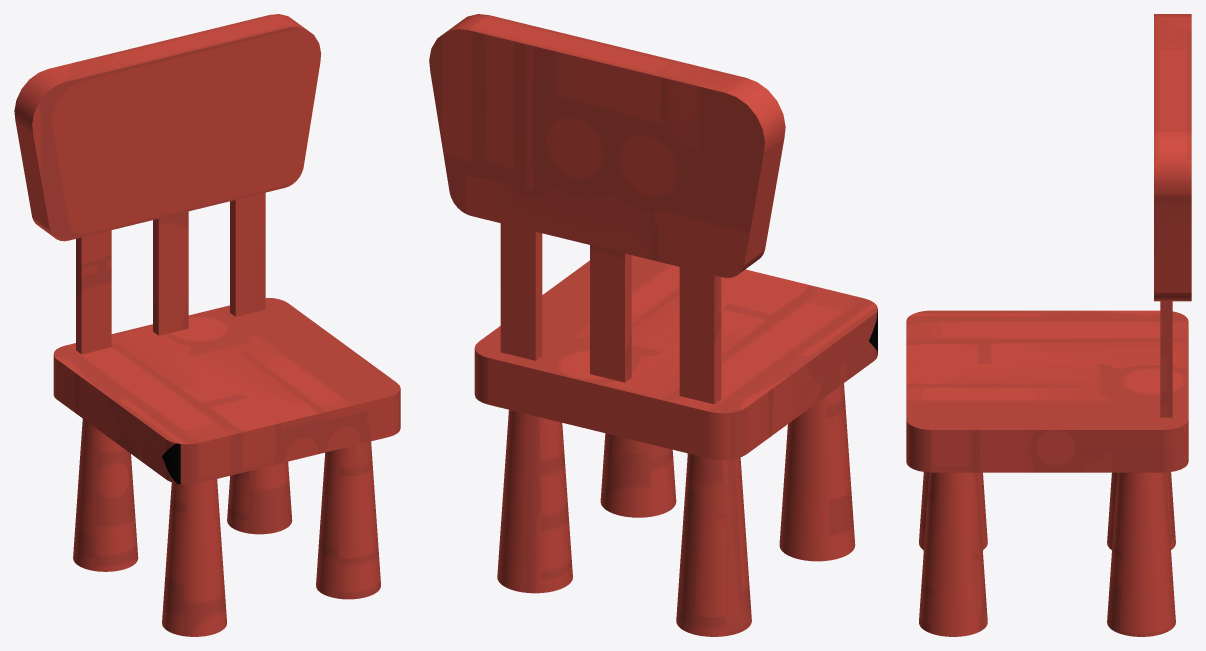
The model's file is plastic.obj.
3 renders of one model, left to right at view 1: azimuth 30°, elevation 25°; view 2: azimuth 150°, elevation 25°; view 3: azimuth 270°, elevation 25°, orthographic. The views are drawn at different scales.
Visible parts, largest first — view 1: Object_2; view 2: Object_2; view 3: Object_2.
Boxes of the visible parts, x1,y1,x2,y2 form: Object_2: (14,14,400,636); Object_2: (429,14,877,636); Object_2: (906,14,1191,636).
Bounding box in the file's own units: 0.7342 × 1.17 × 0.5932.
